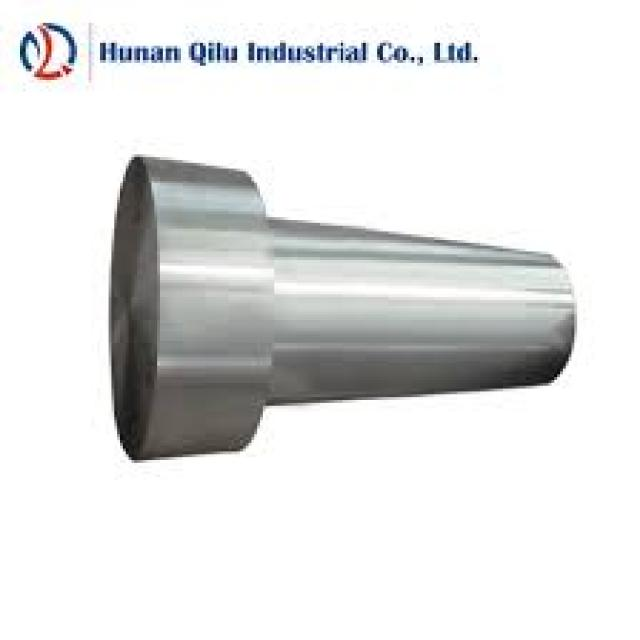Turning: (73, 131, 592, 504)
